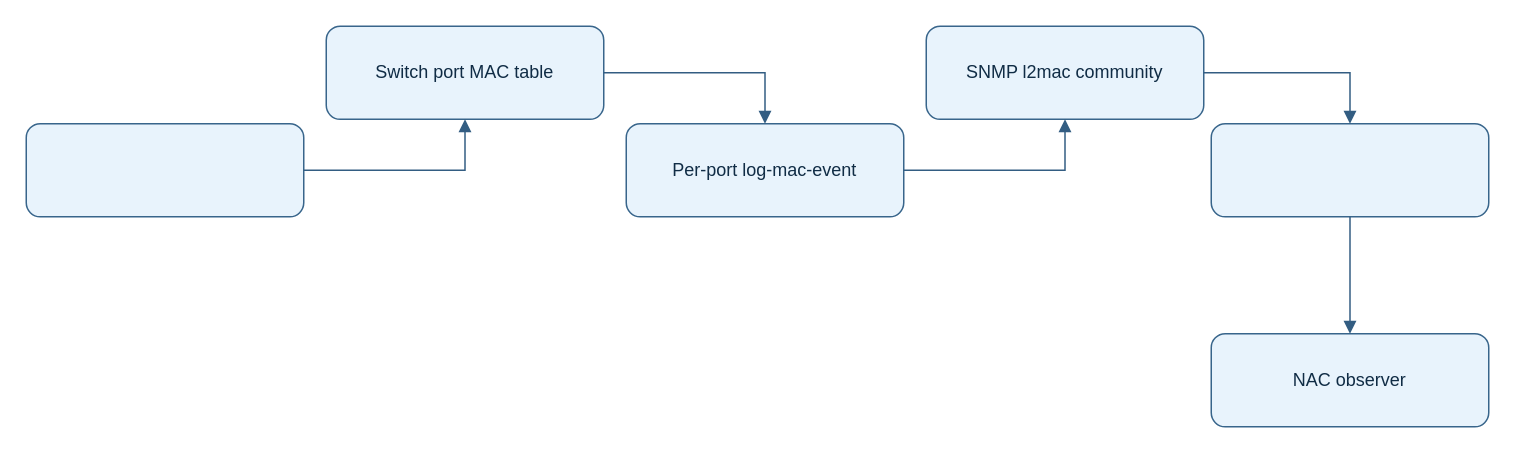
Some shapes in this 1515 by 453 pixel diagram are drawn without their labels. Here are the shapes that lost their labels. From the top down, the centre of each, then its label:
At (164,169): "Endpoint MAC move".
At (1349,169): "Trap receiver".
